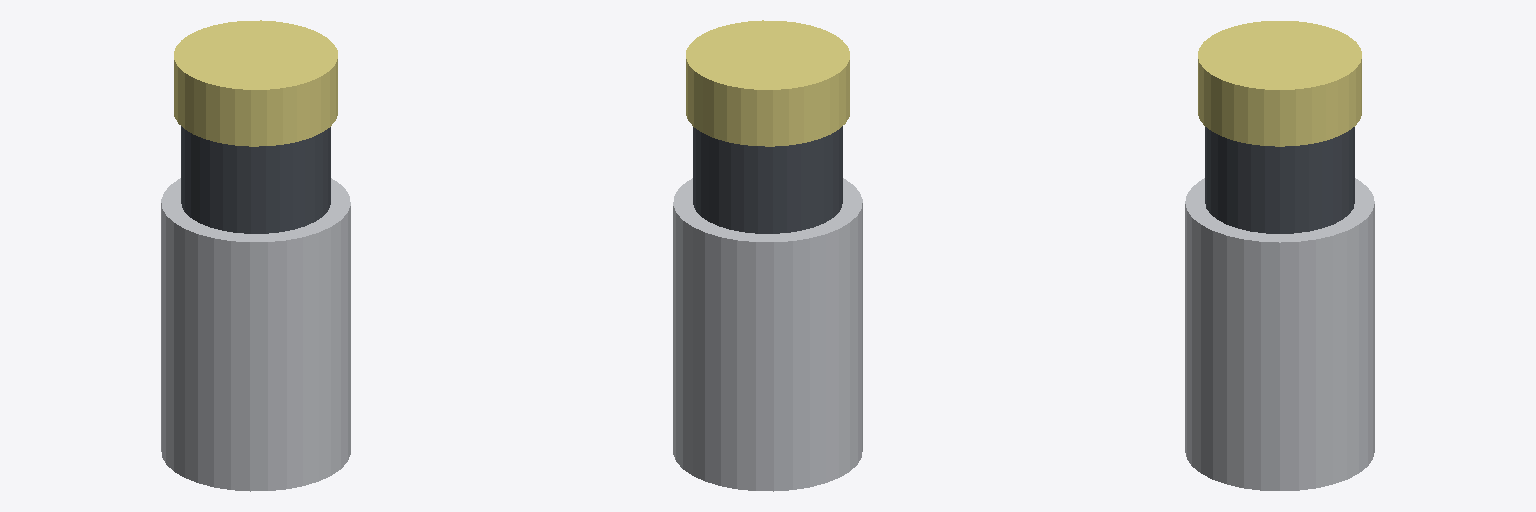
robot.urdf — spray_gun:
<?xml version="1.0"?>
<!-- A hand-authored rotary bell applicator for the painting demo: motor
     housing, shaping-air ring, and the bell cup itself. Standing in for a
     catalog `tool.applicator` product (design/design-painting.md A1) the
     way the router spindle stood in before `tool.spindle` existed.

     Frame convention is the toolpath solver's, shared with the spindle:
     the `tip` link is the TCP at the bell face, and its frame is flipped
     a half-turn about X so its +Z runs from the tip back toward the tool
     body — which is what `PathTarget.tool_axis` and the 5-DOF axis-aligned
     IK expect, and it means paint travels along the TCP's -Z. A bell is
     rotationally symmetric, so the spin about that axis is genuinely free
     and the solver gets its full 5-DOF room.

     Everything collides normally: painting is non-contact, so unlike the
     cutter there is no exemption to arrange. -->
<robot name="spray_gun">
  <link name="gun_mount">
    <visual>
      <origin xyz="0 0 0.055"/>
      <geometry><cylinder radius="0.038" length="0.11"/></geometry>
      <material name="gun_body"><color rgba="0.82 0.83 0.85 1"/></material>
    </visual>
    <collision>
      <origin xyz="0 0 0.055"/>
      <geometry><cylinder radius="0.038" length="0.11"/></geometry>
    </collision>
  </link>
  <link name="shaping_air">
    <visual>
      <origin xyz="0 0 0.02"/>
      <geometry><cylinder radius="0.030" length="0.04"/></geometry>
      <material name="gun_ring"><color rgba="0.35 0.37 0.40 1"/></material>
    </visual>
    <collision>
      <origin xyz="0 0 0.02"/>
      <geometry><cylinder radius="0.030" length="0.04"/></geometry>
    </collision>
  </link>
  <link name="bell_cup">
    <visual>
      <origin xyz="0 0 0.0125"/>
      <geometry><cylinder radius="0.033" length="0.025"/></geometry>
      <material name="gun_cup"><color rgba="0.90 0.86 0.55 1"/></material>
    </visual>
    <collision>
      <origin xyz="0 0 0.0125"/>
      <geometry><cylinder radius="0.033" length="0.025"/></geometry>
    </collision>
  </link>
  <link name="tip"/>
  <joint name="mount_to_shaping_air" type="fixed">
    <parent link="gun_mount"/><child link="shaping_air"/>
    <origin xyz="0 0 0.11"/>
  </joint>
  <joint name="shaping_air_to_bell" type="fixed">
    <parent link="shaping_air"/><child link="bell_cup"/>
    <origin xyz="0 0 0.04"/>
  </joint>
  <joint name="bell_to_tip" type="fixed">
    <parent link="bell_cup"/><child link="tip"/>
    <origin xyz="0 0 0.025" rpy="3.14159265358979 0 0"/>
  </joint>
</robot>

--- What the picture shows (computed from the rendered views, not written in the file) ---
The picture shows the robot from 3 angles, left to right: view 1: azimuth 30°, elevation 25°; view 2: azimuth 150°, elevation 25°; view 3: azimuth 270°, elevation 25°; orthographic projection.
Model spray_gun with 4 links and 3 joints (3 fixed), rooted at gun_mount, posed every joint at zero.
Links seen in each view (by area): view 1: gun_mount, bell_cup, shaping_air; view 2: gun_mount, bell_cup, shaping_air; view 3: gun_mount, bell_cup, shaping_air.
Link boxes in pixels (x1=…): gun_mount: x1=161, y1=178, x2=350, y2=491; bell_cup: x1=174, y1=20, x2=337, y2=146; shaping_air: x1=181, y1=126, x2=330, y2=233; gun_mount: x1=673, y1=178, x2=862, y2=491; bell_cup: x1=686, y1=20, x2=849, y2=146; shaping_air: x1=693, y1=126, x2=842, y2=233; gun_mount: x1=1185, y1=178, x2=1374, y2=490; bell_cup: x1=1198, y1=21, x2=1361, y2=146; shaping_air: x1=1205, y1=127, x2=1354, y2=233.
Size in the robot's own frame: 0.076 by 0.076 by 0.175 metres.
Geometry: primitives only (box / cylinder / sphere), no mesh files.
